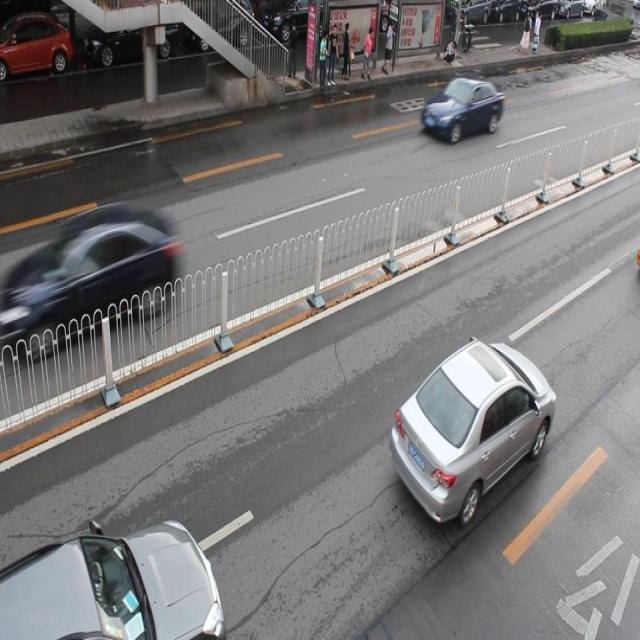car: (390, 339, 554, 521), (0, 516, 222, 640), (18, 208, 175, 348), (82, 8, 176, 69), (421, 76, 503, 142), (1, 14, 72, 81), (259, 1, 329, 49), (185, 1, 254, 49)
